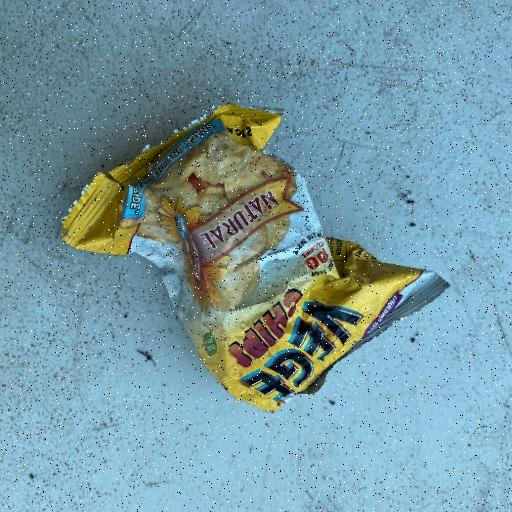Plastic: (58, 100, 450, 414)
